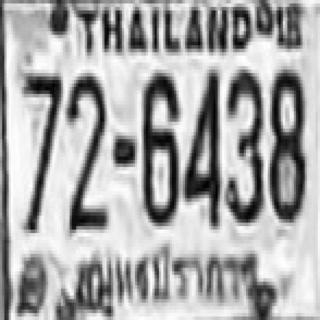N02: (66, 71, 106, 224)
N03: (224, 66, 261, 219)
N04: (183, 66, 220, 222)
N06: (142, 70, 178, 222)
N07: (20, 70, 61, 230)
N08: (268, 66, 305, 219)
P57: (69, 245, 261, 314)
